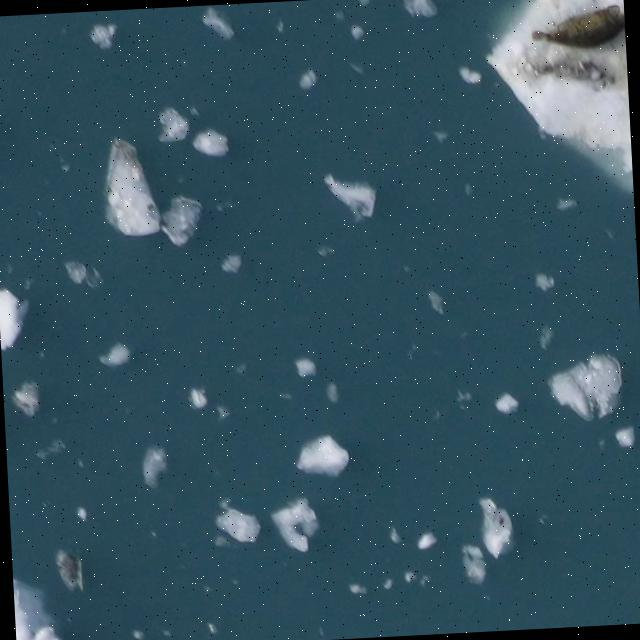seal: (529, 5, 629, 58)
